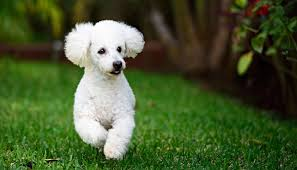Bulldog: (41, 9, 168, 166)
